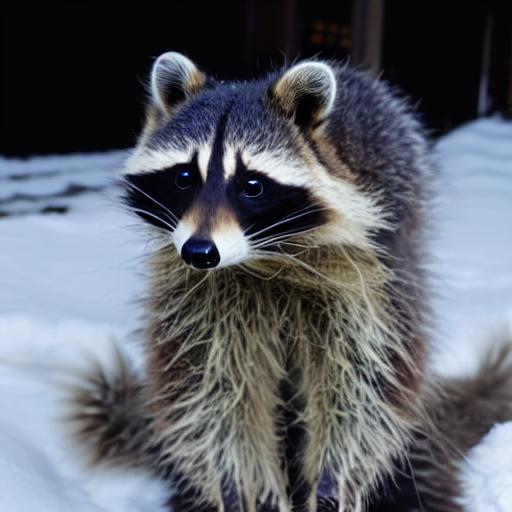raccoon: (114, 37, 460, 482)
